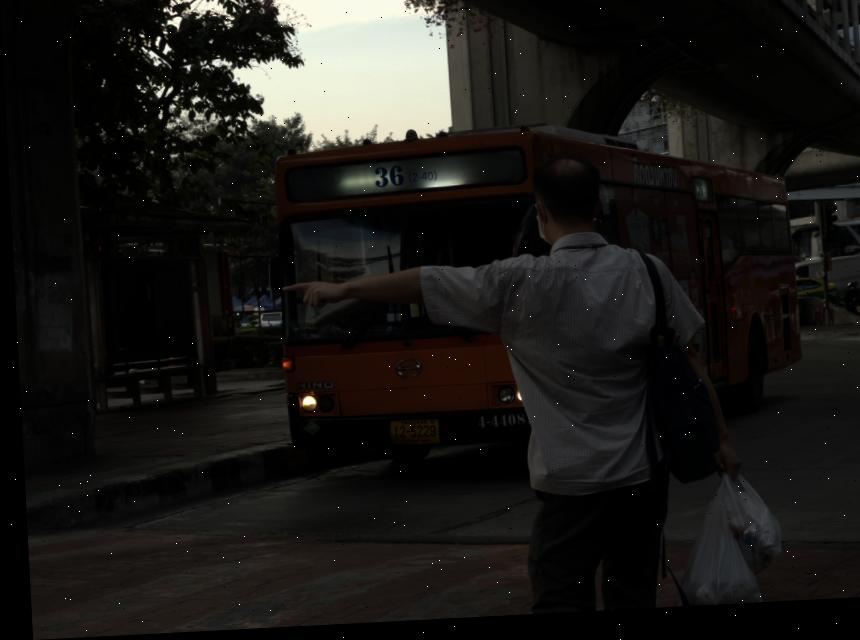BMTA-bus: (252, 104, 805, 457)
Bus Line Number: (370, 159, 439, 195)
Bus Side Number: (464, 417, 533, 438)
